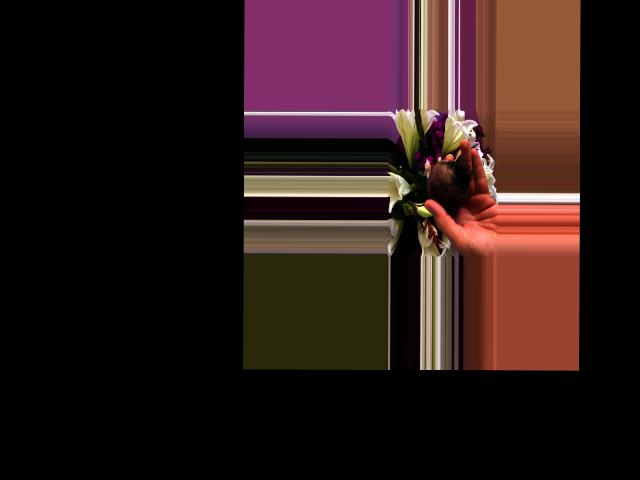beet: (406, 157, 470, 213)
